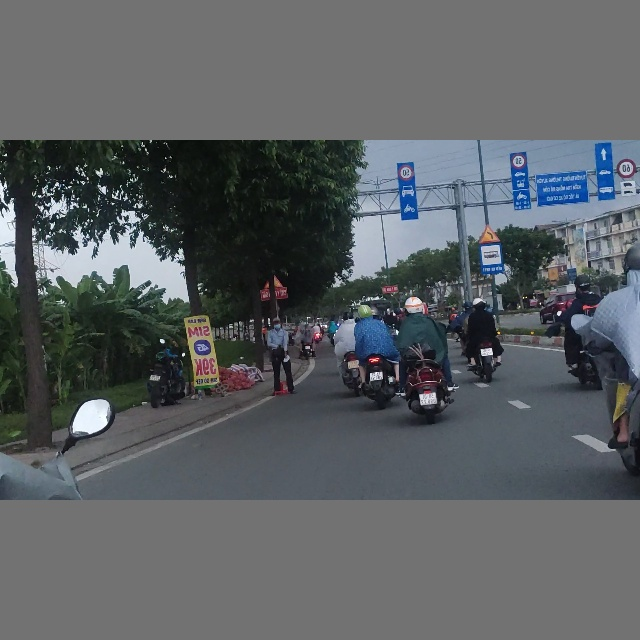I.434a: (480, 243, 503, 273)
P.127*50: (399, 165, 414, 180), (512, 154, 526, 169)
P.127*60: (616, 159, 636, 179)
S.505a*Xe tai va cong: (621, 180, 637, 197)
W.201b: (479, 224, 501, 244)
